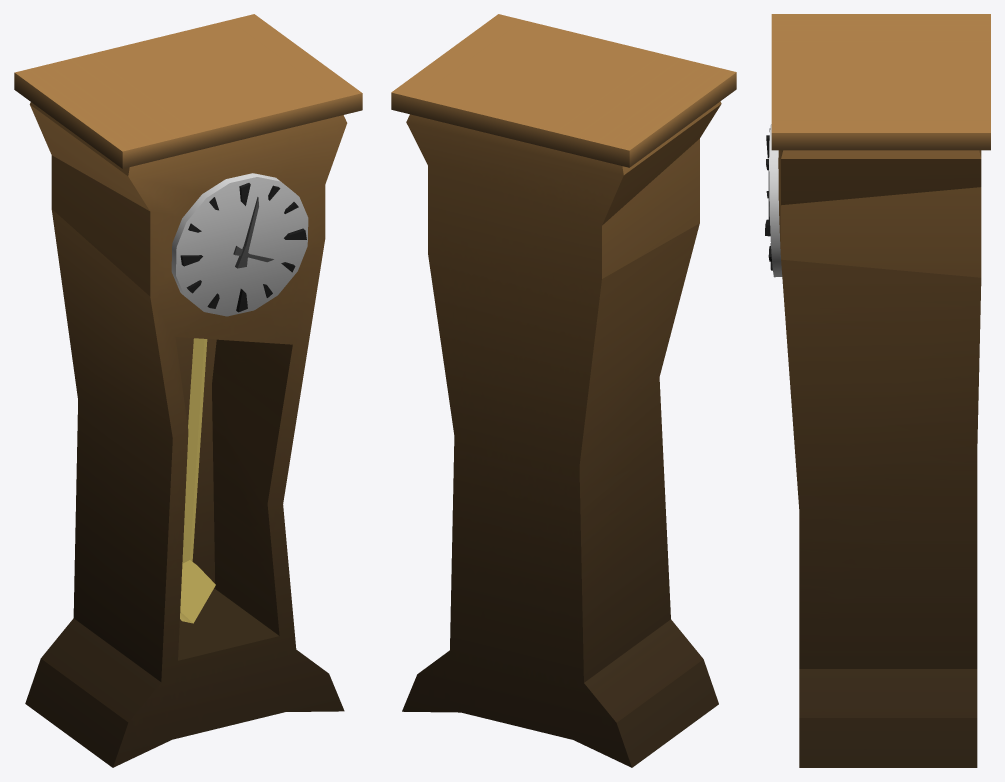
The model's file is pendolo.fbx.
The picture shows the model from 3 angles, left to right: view 1: azimuth 30°, elevation 25°; view 2: azimuth 150°, elevation 25°; view 3: azimuth 270°, elevation 25°; orthographic projection. The views are drawn at different scales.
Visible parts, largest first — view 1: SM_pendolo; view 2: SM_pendolo; view 3: SM_pendolo.
Boxes of the visible parts, x1,y1,x2,y2 form: SM_pendolo: (14,14,362,767); SM_pendolo: (391,14,736,767); SM_pendolo: (765,14,990,767).
Bounding box in the file's own units: 158 × 395 × 127.
